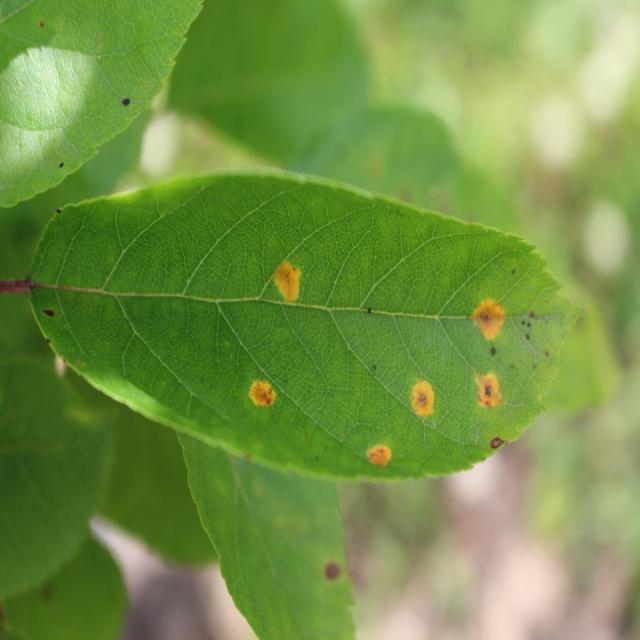Rust: (268, 245, 320, 318), (452, 286, 513, 348), (408, 368, 456, 444), (244, 372, 288, 432), (471, 351, 502, 419), (360, 437, 400, 482)
